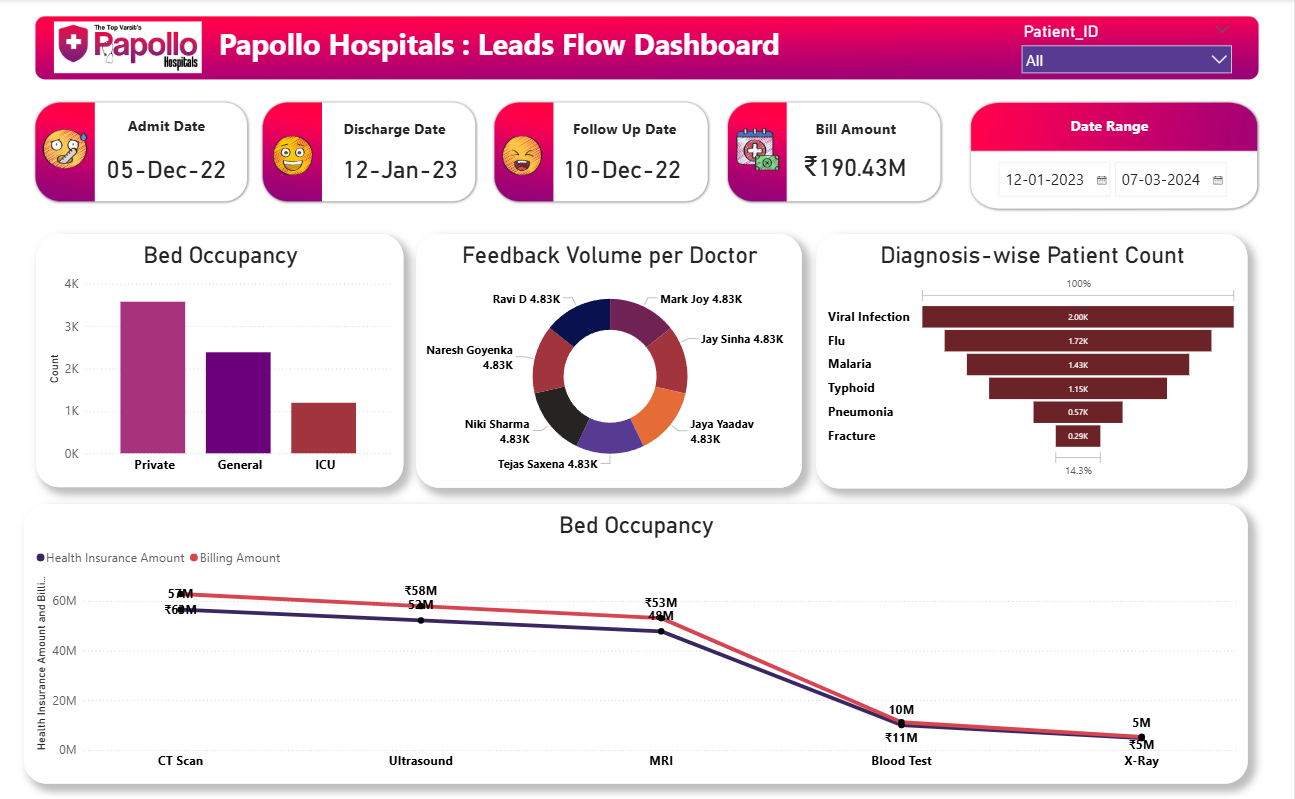

The page's visual inventory and layout, read from the dashboard file:
{"tool":"powerbi","page":{"name":"Page 2","canvas":[1680,1050],"ordinal":0},"visuals":[{"type":"textbox","box":[280,27.1,755.7,74.3],"z":0},{"type":"image","box":[2636.7,100,623.3,150],"z":1000},{"type":"slicer","fields":{"Values":["Sheet1.Patient_ID"]},"box":[2400,373.3,793.3,420],"z":2000},{"type":"card","fields":{"Values":["Min(Sheet1.Admit_Date)"]},"box":[437.6,198.8,162.9,42.8],"z":3000},{"type":"card","fields":{"Values":["Min(Sheet1.Discharge_Date)"]},"box":[129.8,198.8,172.6,42.8],"z":4000},{"type":"card","fields":{"Values":["Min(Sheet1.Followup Date)"]},"box":[724.3,198.6,167.1,42.9],"z":5000},{"type":"textbox","box":[152.9,145.7,127.1,57.1],"z":6000},{"type":"textbox","box":[437.1,151.4,151.4,37.1],"z":7000},{"type":"textbox","box":[732.9,151.4,158.6,37.1],"z":8000},{"type":"textbox","box":[1035.7,151.4,151.4,37.1],"z":9000},{"type":"card","fields":{"Values":["Sum(Sheet1.Billing Amount)"]},"box":[1031.4,194.3,158.6,42.9],"z":10000},{"type":"image","box":[50,157.1,68.6,74.3],"z":11000},{"type":"image","box":[348.6,172.9,62.9,62.9],"z":12000},{"type":"image","box":[640,171.4,77.1,62.9],"z":13000},{"type":"image","box":[951.4,158.6,65.7,71.4],"z":14000},{"type":"columnChart","title":"Bed Occupancy","fields":{"Category":["Sheet1.Bed_Occupancy"],"Y":["CountNonNull(Sheet1.Bed_Occupancy)"]},"box":[47.1,305.7,477.1,328.6],"z":15000},{"type":"donutChart","title":"Feedback Volume per Doctor","fields":{"Category":["Sheet1.Doctor"],"Y":["Sum(Sheet1.Feedback)"]},"box":[540.2,305.2,501,329.5],"z":16000},{"type":"funnel","title":"Diagnosis-wise Patient Count","fields":{"Category":["Sheet1.Diagnosis"],"Y":["CountNonNull(Sheet1.Diagnosis)"]},"box":[1060,305.7,560,330],"z":17000},{"type":"image","box":[30,24.3,274.3,77.1],"z":18000},{"type":"lineChart","title":"Bed Occupancy","fields":{"Y":["Sum(Sheet1.Health Insurance Amount)","Sum(Sheet1.Billing Amount)"],"Category":["Sheet1.Test"]},"box":[31.1,656.3,1589.5,363.3],"z":19000},{"type":"slicer","fields":{"Values":["Sheet1.Admit_Date"]},"box":[1284.3,201.2,360.6,68.9],"z":20000},{"type":"slicer","fields":{"Values":["Sheet1.Patient_ID"]},"box":[1317.1,24.3,292.9,82.9],"z":21000},{"type":"textbox","box":[1365.7,145.7,151.4,37.1],"z":22000}]}

Visuals, with their boxes in screenshot pixels (x1, y1, x2, y2), scaled from the page's 1680x1050 canvas onto the 1295x799 screenshot:
textbox: (x1=216, y1=21, x2=798, y2=77)
card - Min(Sheet1.Admit_Date): (x1=337, y1=151, x2=463, y2=184)
card - Min(Sheet1.Discharge_Date): (x1=100, y1=151, x2=233, y2=184)
card - Min(Sheet1.Followup Date): (x1=558, y1=151, x2=687, y2=184)
textbox: (x1=118, y1=111, x2=216, y2=154)
textbox: (x1=337, y1=115, x2=454, y2=143)
textbox: (x1=565, y1=115, x2=687, y2=143)
textbox: (x1=798, y1=115, x2=915, y2=143)
card - Sum(Sheet1.Billing Amount): (x1=795, y1=148, x2=917, y2=180)
image: (x1=39, y1=120, x2=91, y2=176)
image: (x1=269, y1=132, x2=317, y2=179)
image: (x1=493, y1=130, x2=553, y2=178)
image: (x1=733, y1=121, x2=784, y2=175)
"Bed Occupancy" columnChart: (x1=36, y1=233, x2=404, y2=483)
"Feedback Volume per Doctor" donutChart: (x1=416, y1=232, x2=803, y2=483)
"Diagnosis-wise Patient Count" funnel: (x1=817, y1=233, x2=1249, y2=484)
image: (x1=23, y1=18, x2=235, y2=77)
"Bed Occupancy" lineChart: (x1=24, y1=499, x2=1249, y2=776)
slicer - Sheet1.Admit_Date: (x1=990, y1=153, x2=1268, y2=206)
slicer - Sheet1.Patient_ID: (x1=1015, y1=18, x2=1241, y2=82)
textbox: (x1=1053, y1=111, x2=1169, y2=139)
